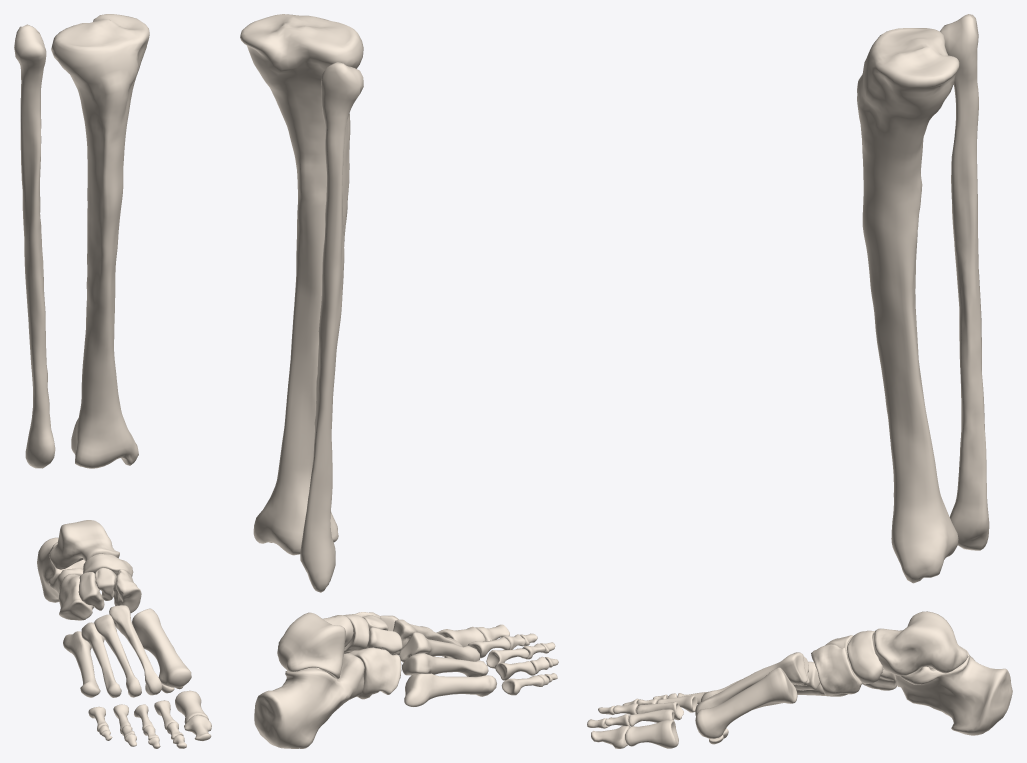
Rendered from ankle.glb.
3 renders of one model, left to right at view 1: azimuth 30°, elevation 25°; view 2: azimuth 150°, elevation 25°; view 3: azimuth 270°, elevation 25°, orthographic. The views are drawn at different scales.
Visible parts, largest first — view 1: Tibia.r, First metatarsal bone.r, Fibula.r, Proximal phalanx of second finger of foot.r; view 2: Tibia.r, First metatarsal bone.r, Fibula.r, Proximal phalanx of second finger of foot.r; view 3: Tibia.r, First metatarsal bone.r, Fibula.r, Proximal phalanx of second finger of foot.r.
Part boxes in pixels (x1=…): Tibia.r: x1=51, y1=14, x2=149, y2=468; First metatarsal bone.r: x1=37, y1=520, x2=191, y2=697; Fibula.r: x1=14, y1=24, x2=55, y2=468; Proximal phalanx of second finger of foot.r: x1=88, y1=690, x2=211, y2=748; Tibia.r: x1=240, y1=14, x2=363, y2=555; First metatarsal bone.r: x1=254, y1=612, x2=496, y2=748; Fibula.r: x1=300, y1=62, x2=363, y2=592; Proximal phalanx of second finger of foot.r: x1=436, y1=624, x2=558, y2=695; Tibia.r: x1=857, y1=28, x2=959, y2=583; First metatarsal bone.r: x1=695, y1=611, x2=1012, y2=744; Fibula.r: x1=940, y1=14, x2=989, y2=550; Proximal phalanx of second finger of foot.r: x1=587, y1=691, x2=708, y2=748.
Size of the model in its own units: 0.1276 by 0.4914 by 0.2635.
